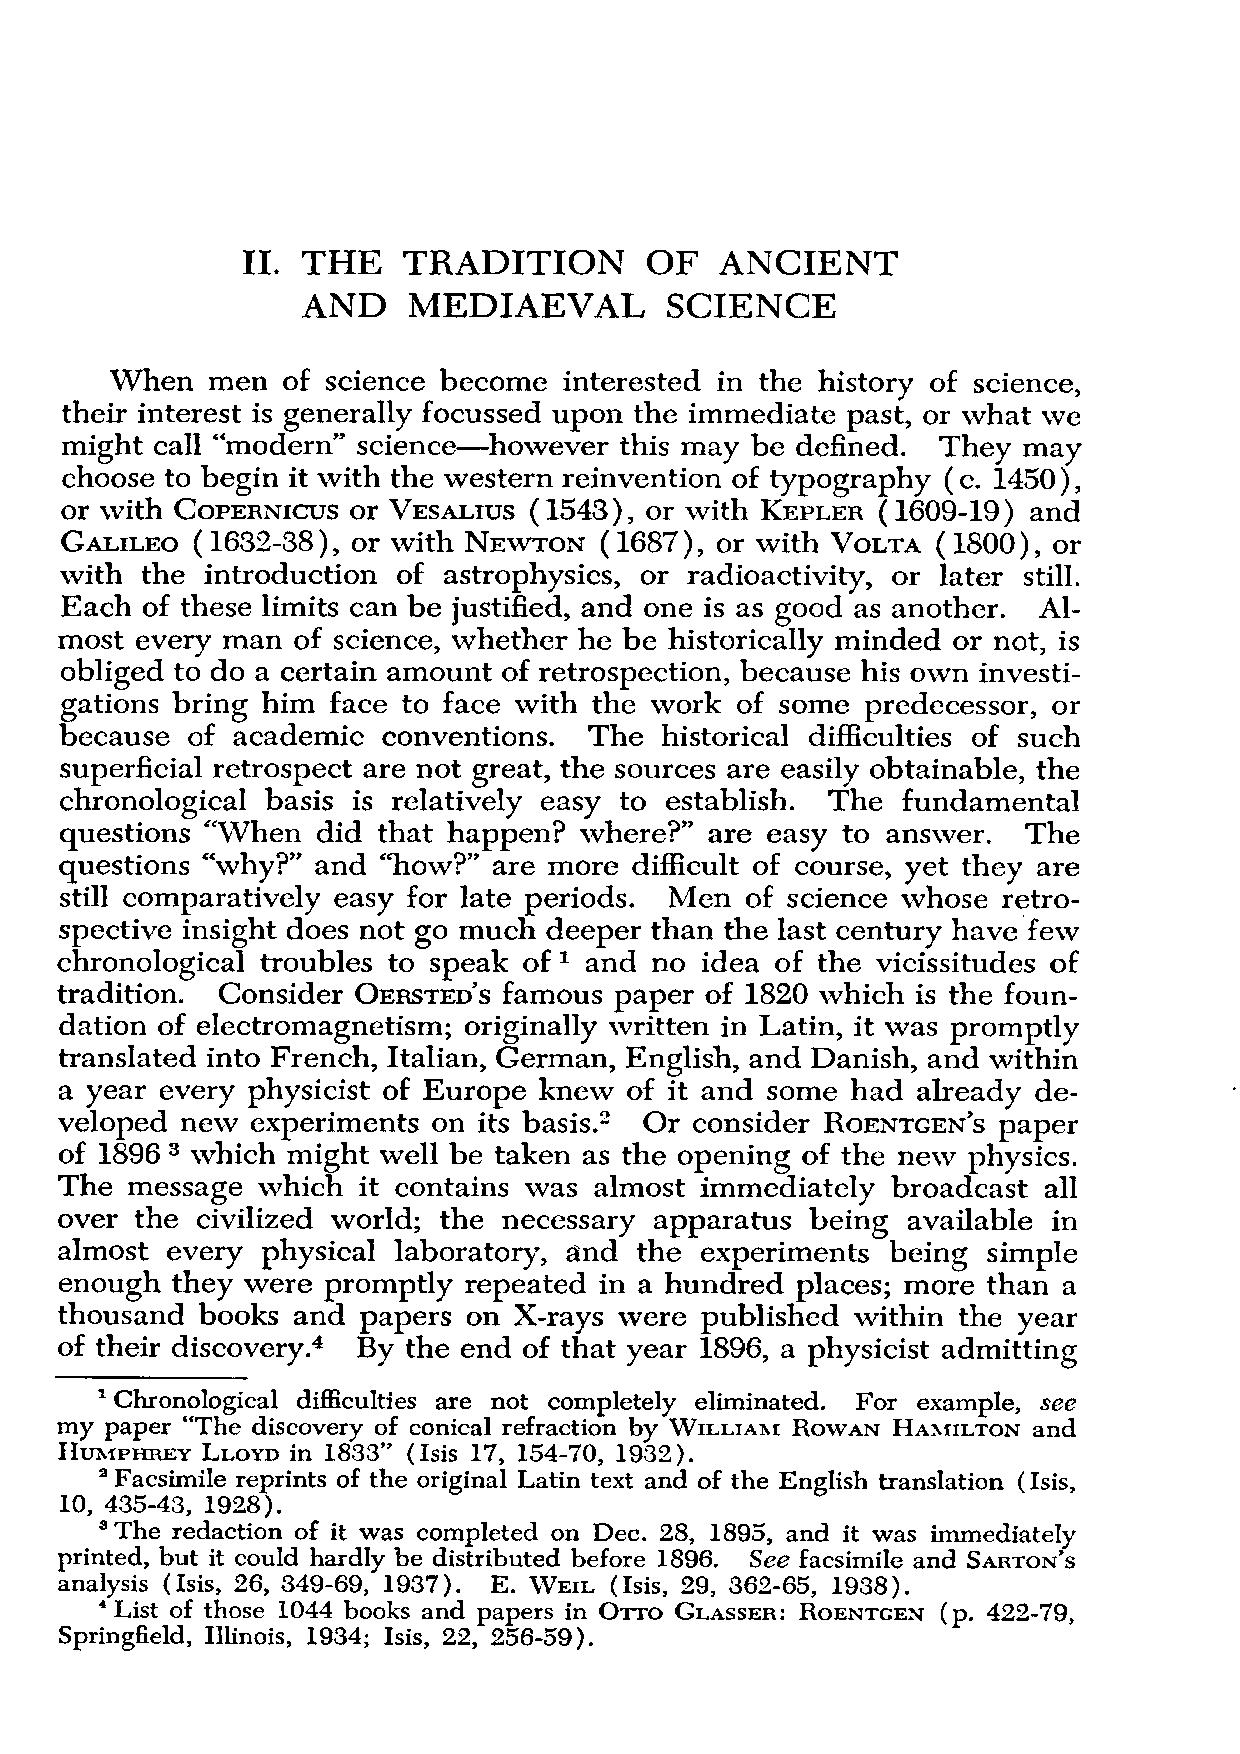chapter: (242, 248, 898, 319)
content: (54, 366, 1083, 1651)
